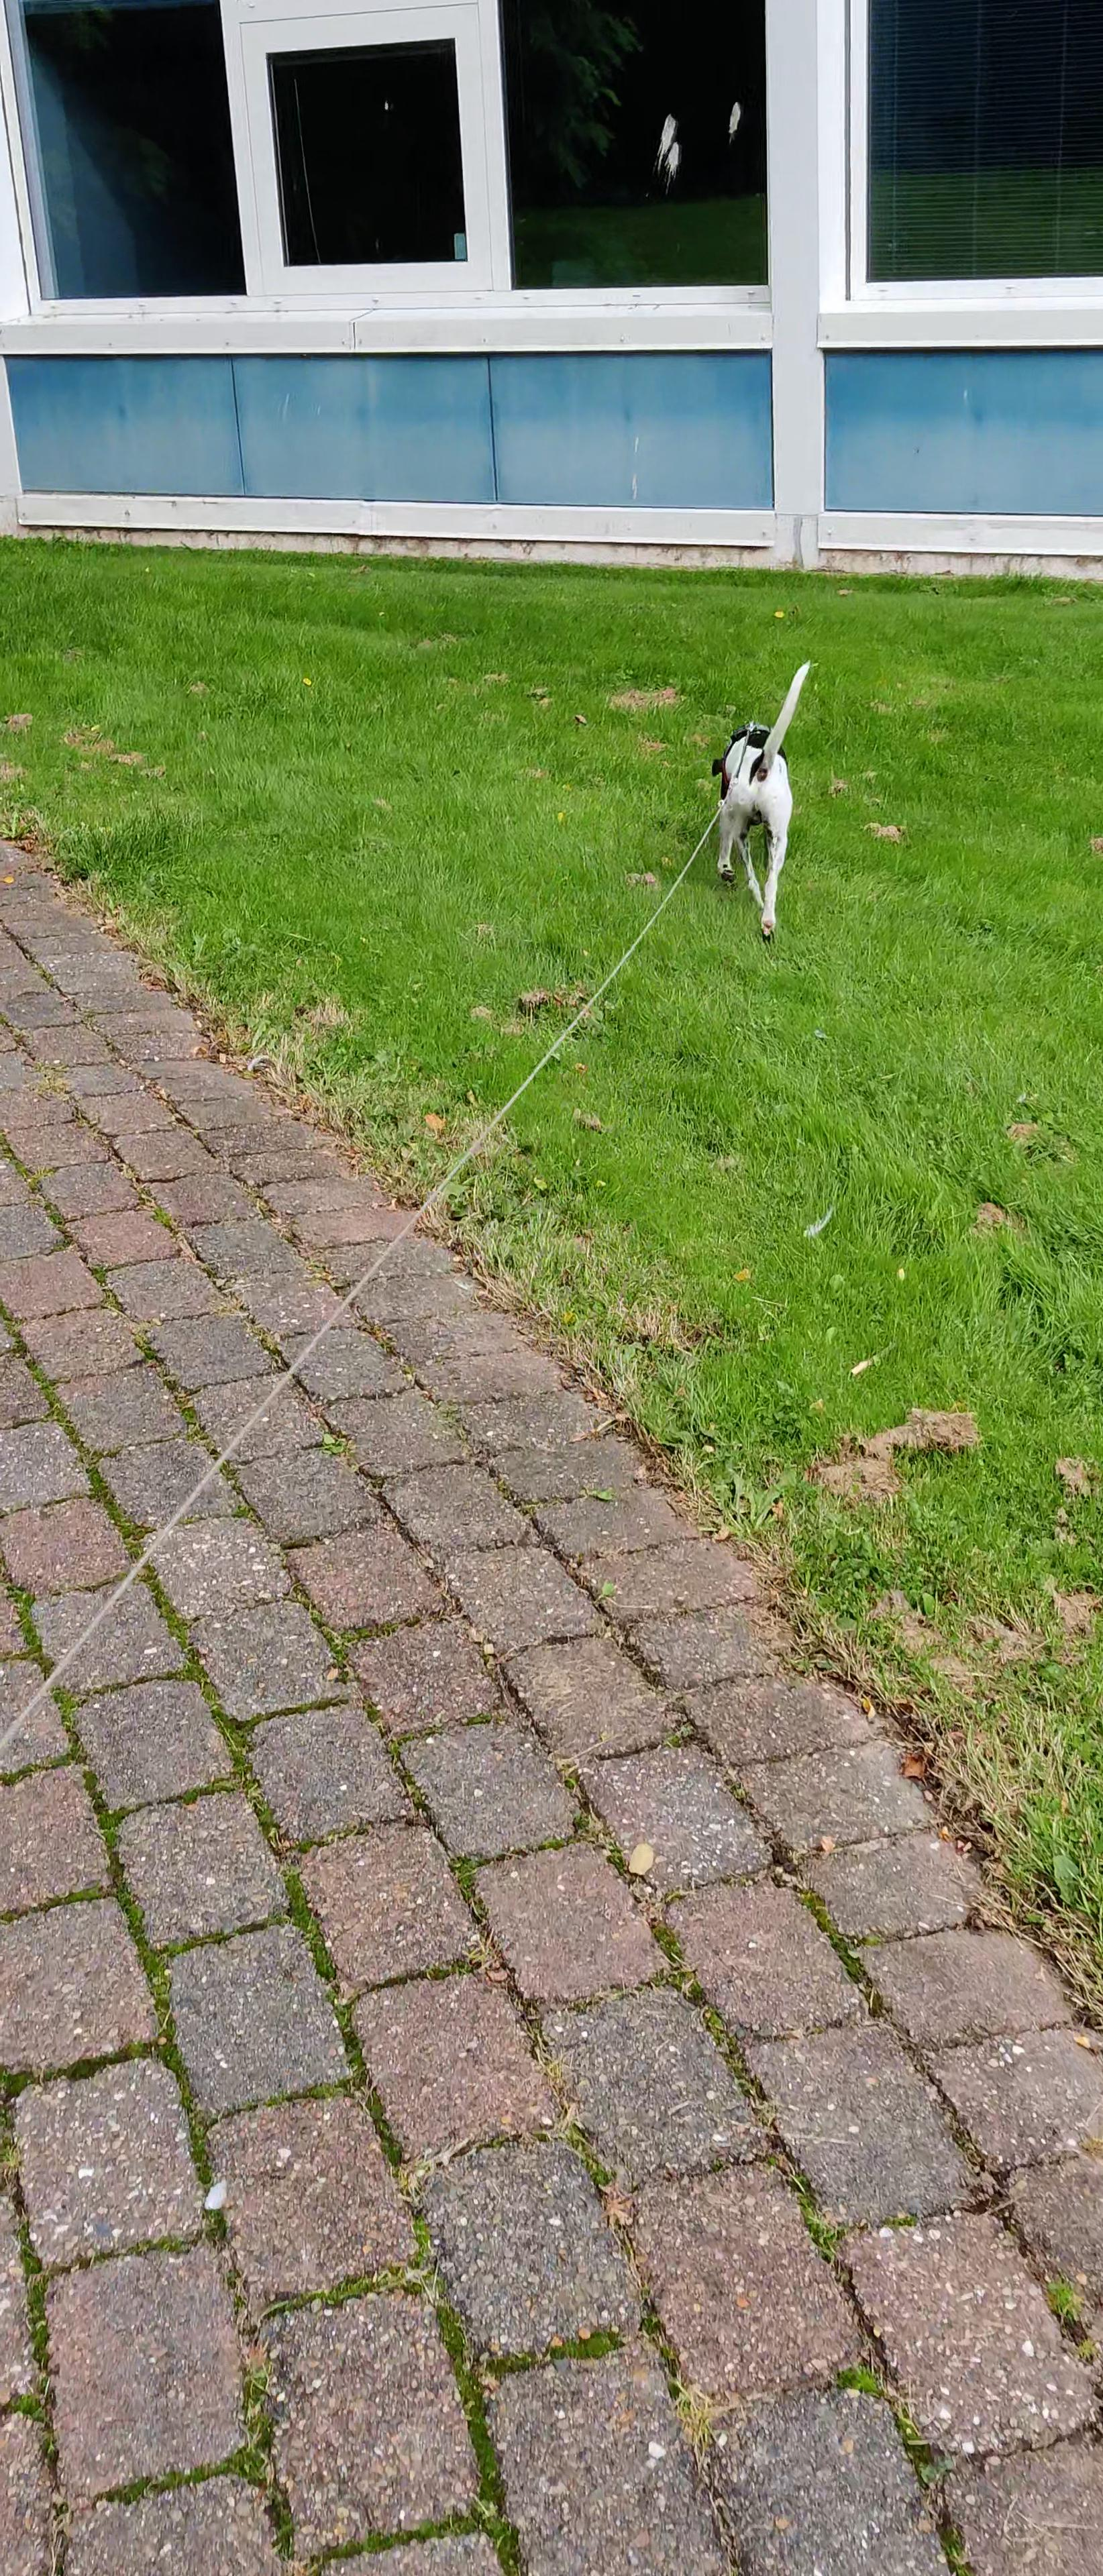Dog: (704, 654, 814, 945)
